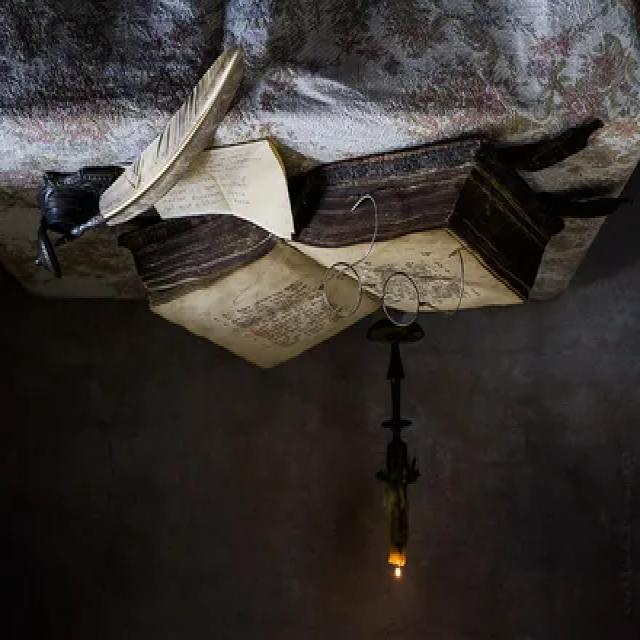book: (120, 127, 570, 387)
